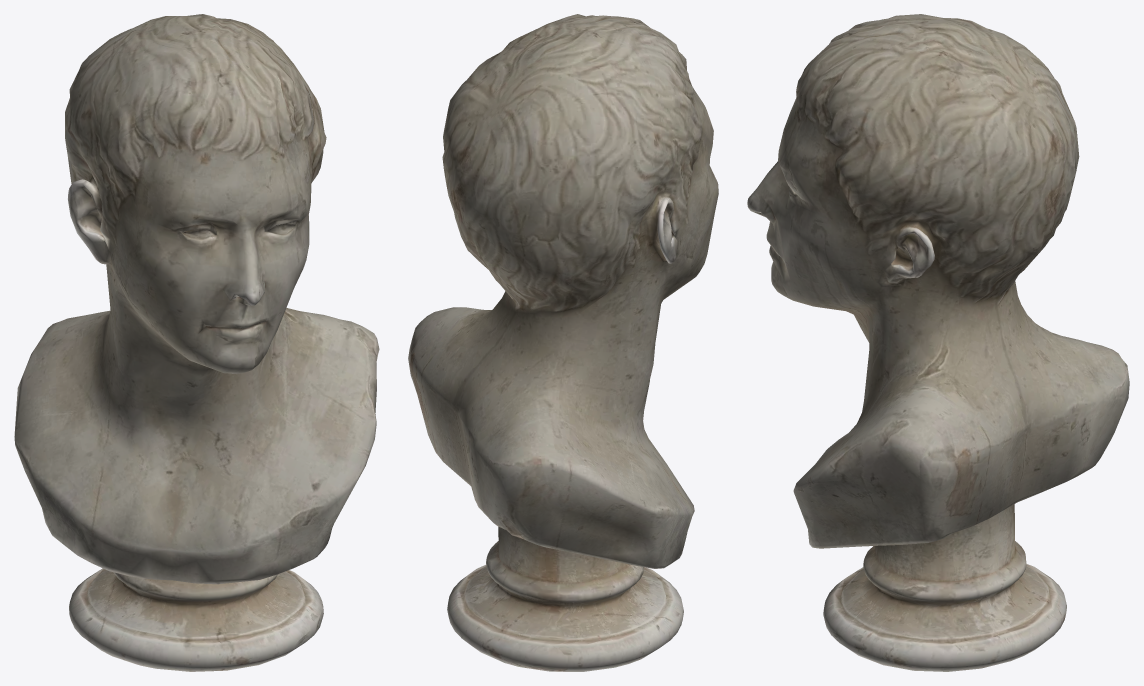
Rendered from bust.glb.
3 views of the same model, side by side, from view 1: azimuth 30°, elevation 25°; view 2: azimuth 150°, elevation 25°; view 3: azimuth 270°, elevation 25° (orthographic). The views are drawn at different scales.
Visible parts, largest first — view 1: marble_bust_01; view 2: marble_bust_01; view 3: marble_bust_01.
Boxes of the visible parts, x1,y1,x2,y2 form: marble_bust_01: (14,14,379,671); marble_bust_01: (408,14,718,671); marble_bust_01: (747,14,1129,671).
Size of the model in its own units: 0.2718 by 0.5148 by 0.2997.
1 material, 1 textured.
